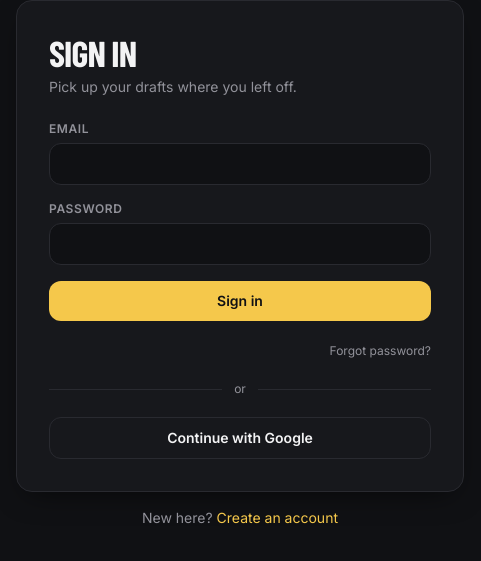
LoginPage validation › rejects a malformed email
Type "not-an-email" into the field labelled "Email" at (240,164), box [49,143,431,185]
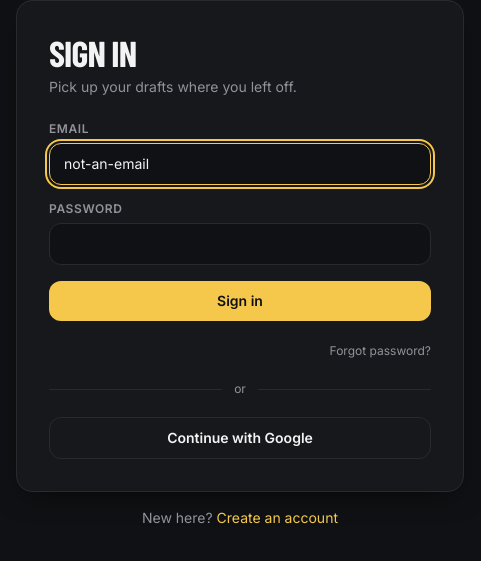
Type "secret123" into the password field labelled "Password" at (240,244), box [49,223,431,265]
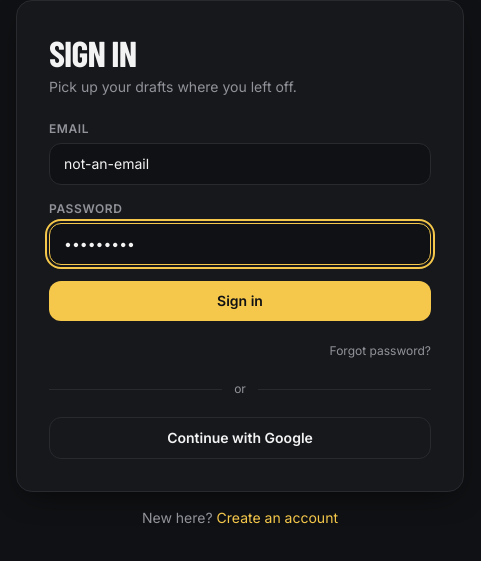
Click the button "Sign in" at (240,301), box [49,281,431,321]
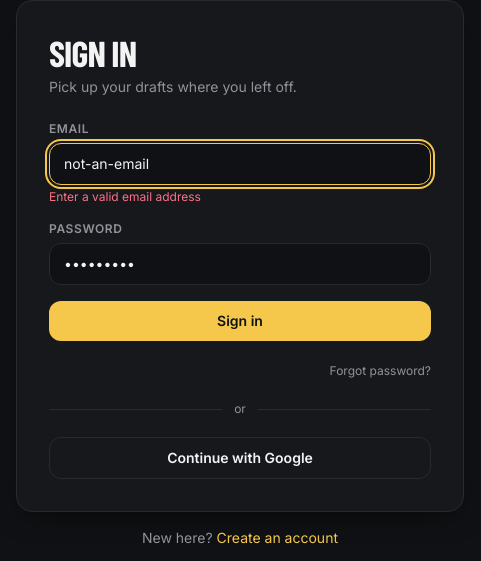
Check: the text "Enter a valid email address" is shown, box [49,189,201,204]
